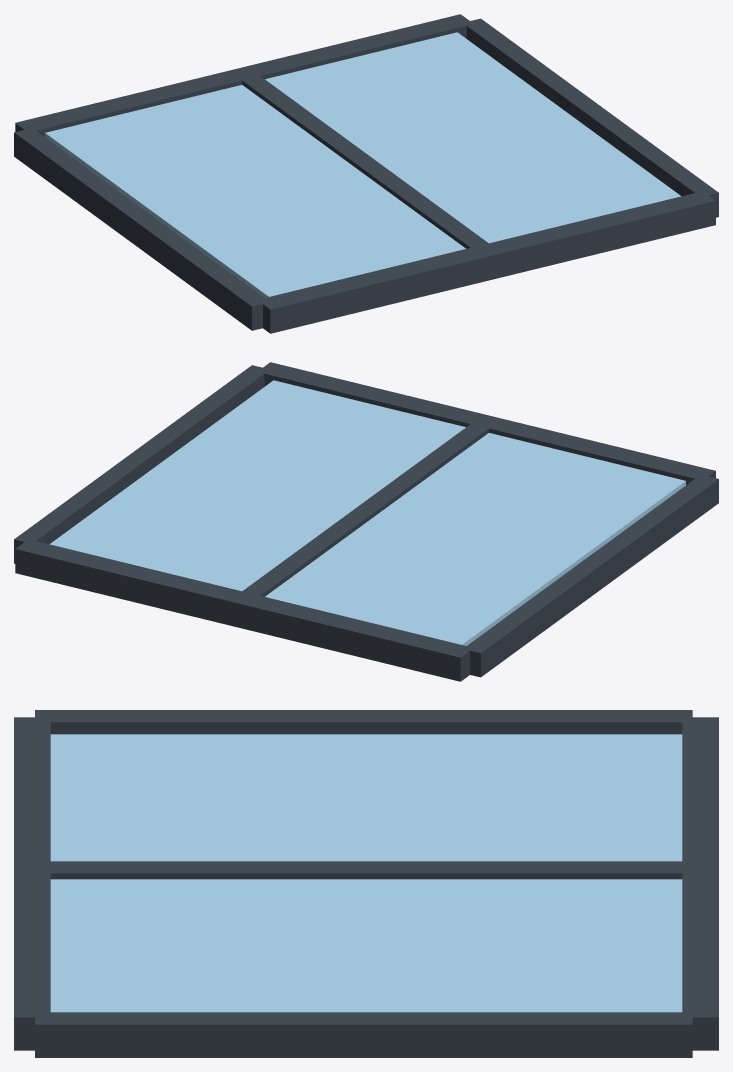
File: ARCH_WINDOW_TALL_001.glb
The picture shows the model from 3 angles, top to bottom: view 1: azimuth 30°, elevation 25°; view 2: azimuth 150°, elevation 25°; view 3: azimuth 270°, elevation 25°; orthographic projection. The views are drawn at different scales.
Visible parts, largest first — view 1: window_glass_000, window_top_001, mullion_003, window_bottom_002, mullion_005, mullion_004; view 2: window_glass_000, window_bottom_002, mullion_003, window_top_001, mullion_005, mullion_004; view 3: window_glass_000, mullion_005, mullion_003, mullion_004, window_bottom_002, window_top_001.
Part boxes in pixels (box(x1,y1,x2,y2)): window_glass_000: box(45, 32, 680, 297); window_top_001: box(257, 193, 715, 333); mullion_003: box(14, 128, 269, 330); window_bottom_002: box(15, 14, 473, 136); mullion_005: box(466, 18, 718, 217); mullion_004: box(239, 73, 493, 250); window_glass_000: box(50, 380, 685, 645); window_bottom_002: box(15, 539, 473, 681); mullion_003: box(464, 475, 718, 677); window_top_001: box(257, 362, 715, 484); mullion_005: box(14, 365, 267, 563); mullion_004: box(240, 424, 492, 597); window_glass_000: box(50, 734, 682, 1012); mullion_005: box(35, 1012, 692, 1057); mullion_003: box(35, 710, 692, 734); mullion_004: box(36, 861, 692, 879); window_bottom_002: box(682, 717, 718, 1050); window_top_001: box(14, 717, 50, 1050).
Size of the model in its own units: 1.41 by 0.07 by 1.34.
